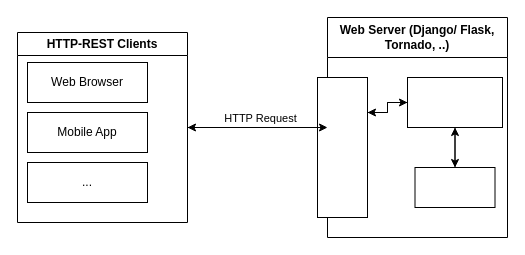
This 525x255 diagram has some shape labels left out. Here are the shapes that lost their labels. From the top down, the centre of each, then its label:
At [454,102]: "Large Language Model AI".
At [342,147]: "API REST".
At [454,187]: "Database".
